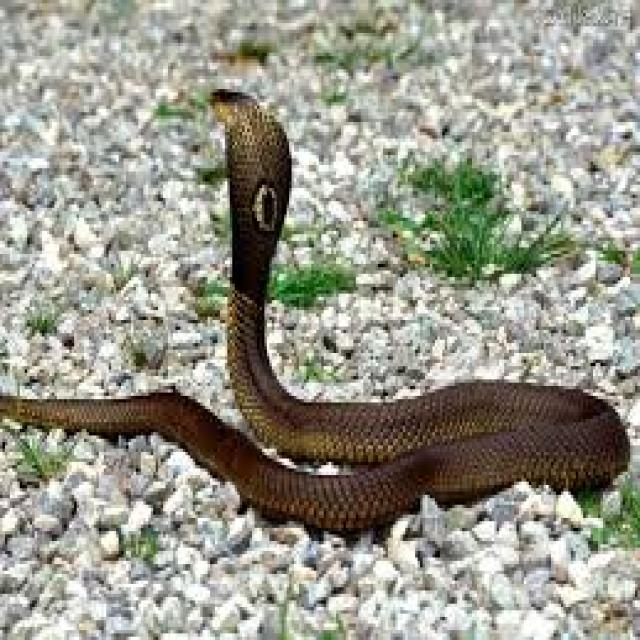Venomous: (190, 75, 298, 242)
